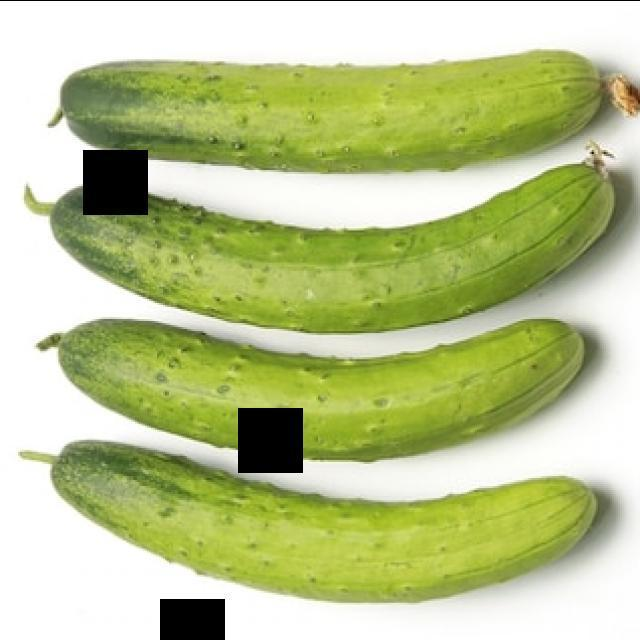cucumber: (20, 38, 640, 614), (35, 428, 610, 606), (31, 172, 640, 332), (38, 42, 640, 160)
